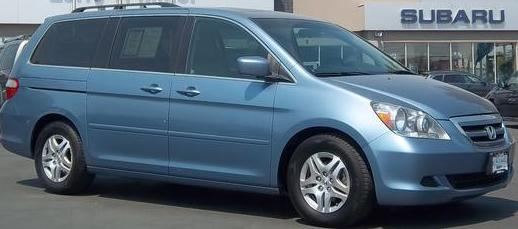front_view: (370, 84, 509, 195)
headlight: (371, 94, 460, 154)
side_glass: (86, 8, 297, 92)
